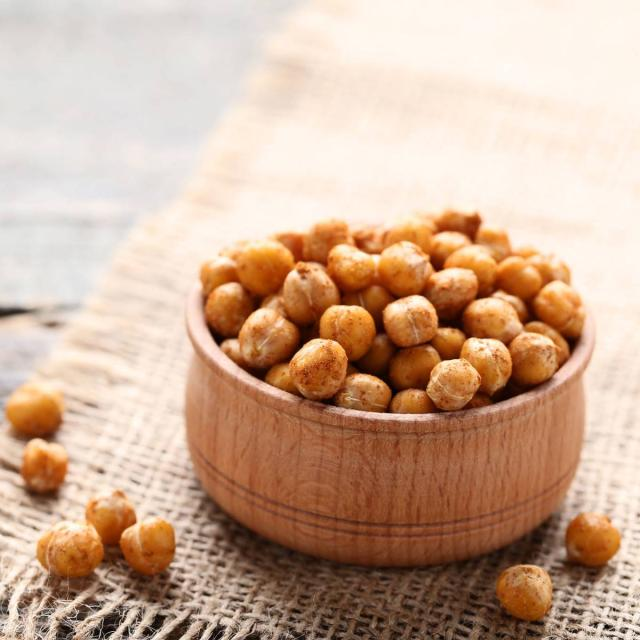garbanzos: (187, 195, 606, 440)
